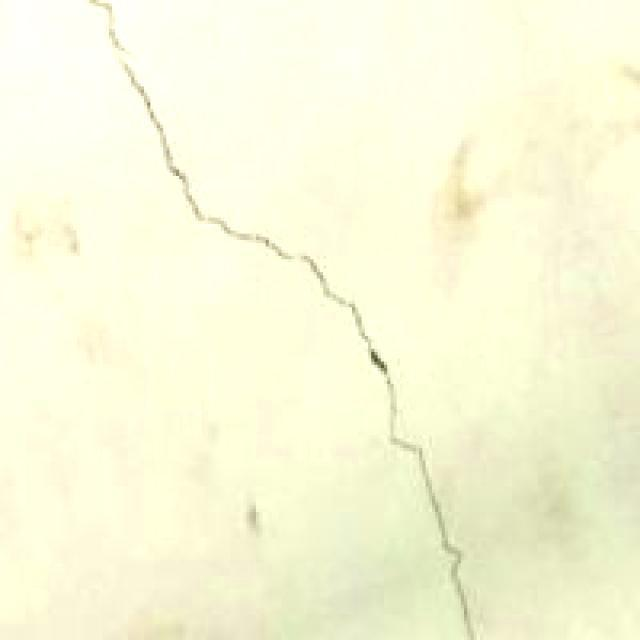minor crack: (69, 4, 496, 628), (277, 248, 402, 399), (180, 203, 300, 262), (84, 0, 126, 50)
moderate crack: (432, 64, 633, 297), (404, 435, 467, 563), (445, 546, 479, 634)
